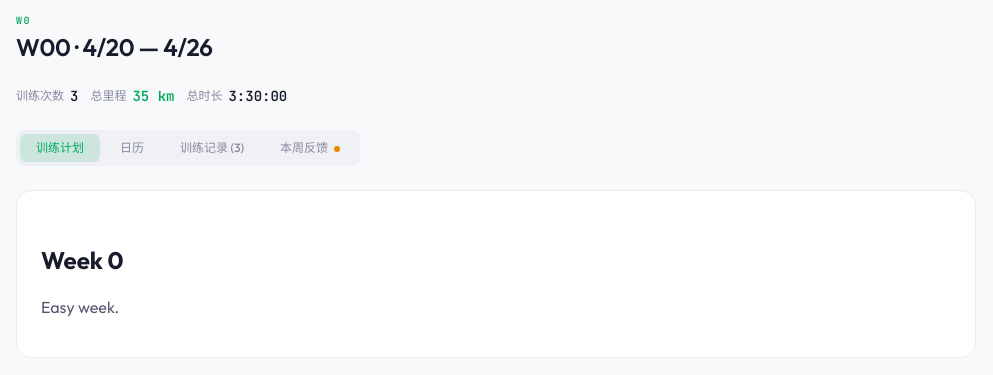
it: WeekLayout — calendar tab › renders 7 day-cards when status=fresh
Expected: the button "训练计划" is shown, [20, 134, 100, 162]
Click the button "日历" at {"x": 132, "y": 148}, box [104, 134, 160, 162]
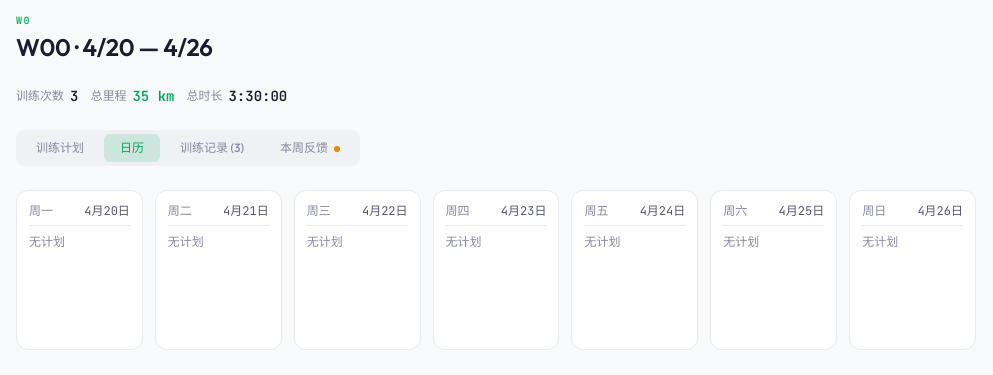
Expected: the number of elements with test id "day-card" is 7
